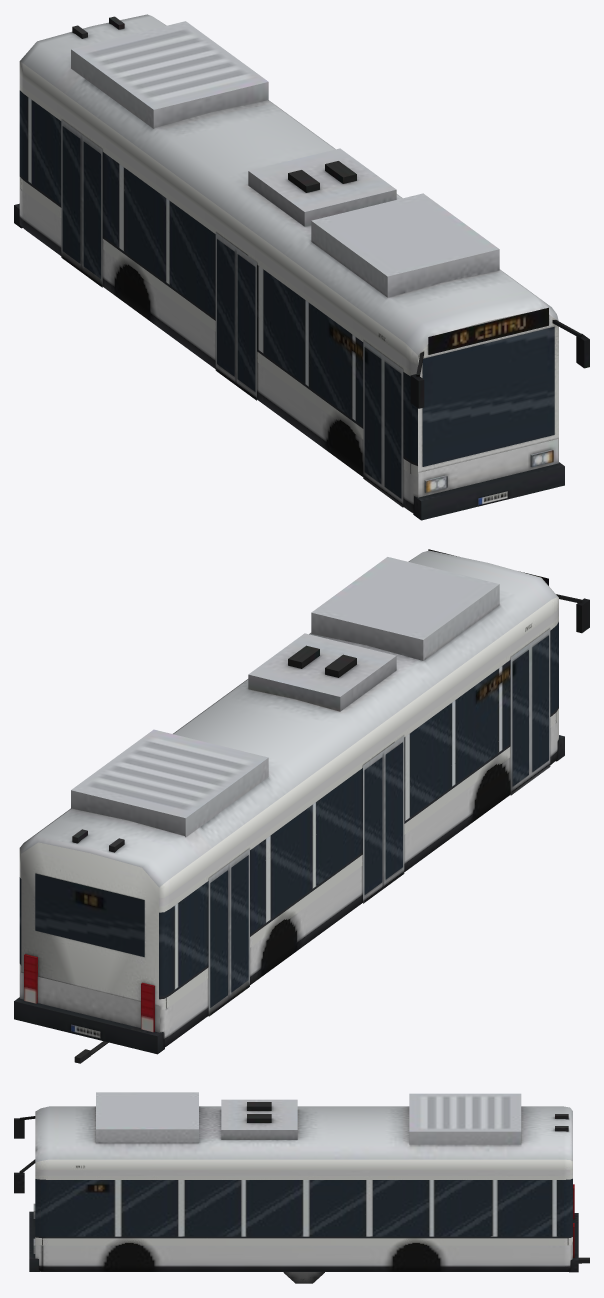
The model's file is cars.glb.
The picture shows the model from 3 angles, top to bottom: view 1: azimuth 30°, elevation 25°; view 2: azimuth 150°, elevation 25°; view 3: azimuth 270°, elevation 25°; orthographic projection. The views are drawn at different scales.
Parts seen in each view (by area): view 1: trolley_body, trolley_det; view 2: trolley_body, trolley_det; view 3: trolley_body, trolley_det, trolley_wfar.
Part boxes in pixels (bbox=[...]): trolley_body: bbox=[14, 14, 564, 520]; trolley_det: bbox=[72, 16, 589, 408]; trolley_body: bbox=[14, 549, 564, 1054]; trolley_det: bbox=[72, 594, 589, 852]; trolley_body: bbox=[29, 1092, 578, 1272]; trolley_det: bbox=[14, 1114, 568, 1193]; trolley_wfar: bbox=[283, 1272, 324, 1283].
Size of the model in its own units: 2.98 by 4.2 by 12.86.
Materials: 103 (103 with a texture image).
